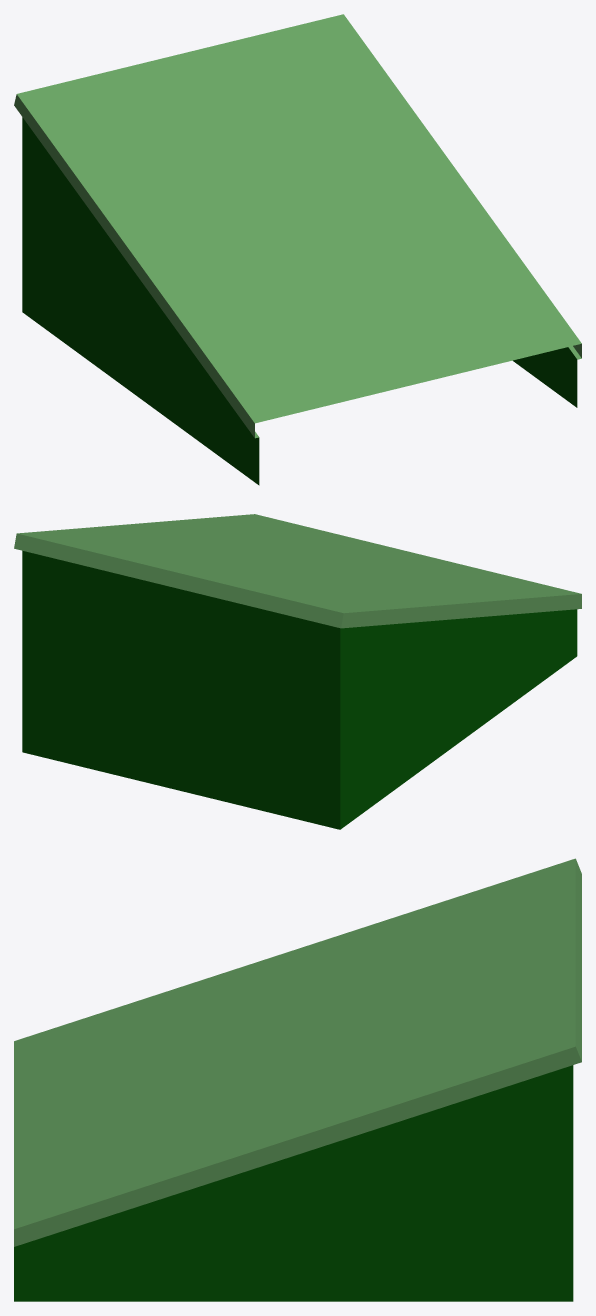
File: Ramp20Deg.FBX
3 renders of one model, top to bottom at view 1: azimuth 30°, elevation 25°; view 2: azimuth 150°, elevation 25°; view 3: azimuth 270°, elevation 25°, orthographic. The views are drawn at different scales.
Visible parts, largest first — view 1: Ramp-20deg; view 2: Ramp-20deg; view 3: Ramp-20deg.
Boxes of the visible parts, bbox=[...] form: Ramp-20deg: bbox=[14, 14, 581, 485]; Ramp-20deg: bbox=[14, 514, 581, 829]; Ramp-20deg: bbox=[14, 858, 581, 1301].
Bounding box in the file's own units: 243 × 155 × 309.
